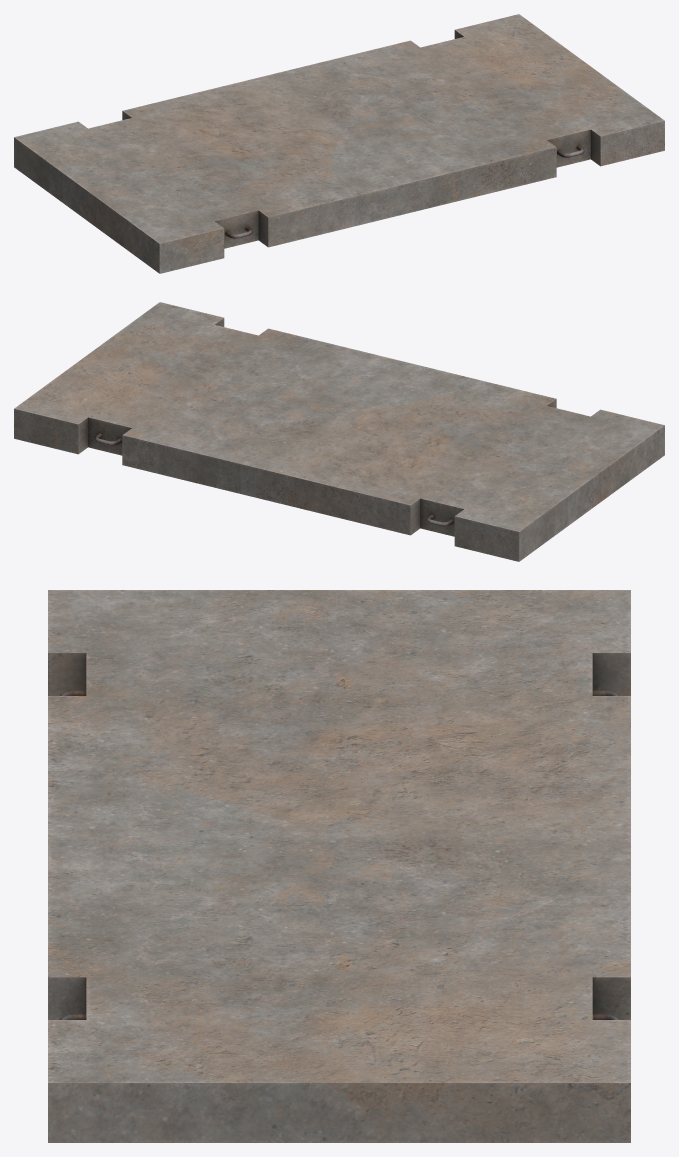
The model's file is road_plate.glb.
The picture shows the model from 3 angles, top to bottom: view 1: azimuth 30°, elevation 25°; view 2: azimuth 150°, elevation 25°; view 3: azimuth 270°, elevation 25°; orthographic projection. The views are drawn at different scales.
Visible parts, largest first — view 1: m_Road_plate; view 2: m_Road_plate; view 3: m_Road_plate.
Boxes of the visible parts, x1=… form: m_Road_plate: x1=14, y1=14, x2=664, y2=273; m_Road_plate: x1=14, y1=302, x2=664, y2=561; m_Road_plate: x1=48, y1=590, x2=630, y2=1142.
Bounding box in the file's own units: 2 × 0.1133 × 1.
Materials: 1 (1 with a texture image).
